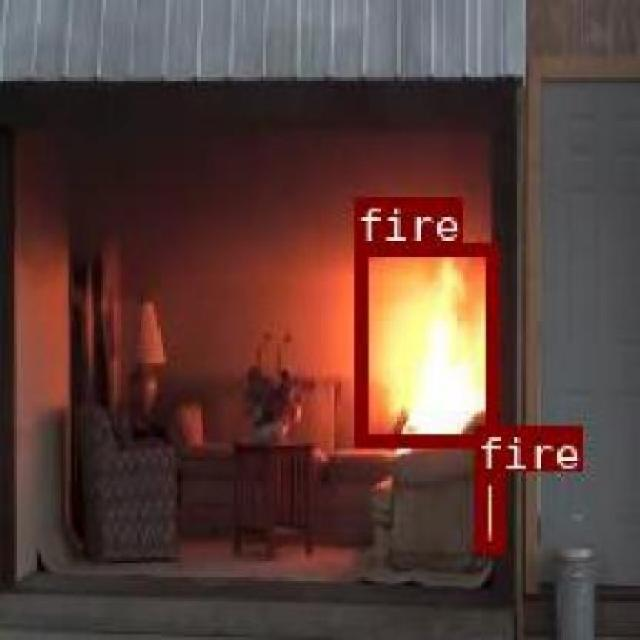Fire: (352, 240, 496, 446)
